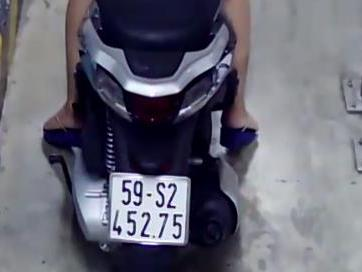num_plate: (110, 172, 190, 244)
